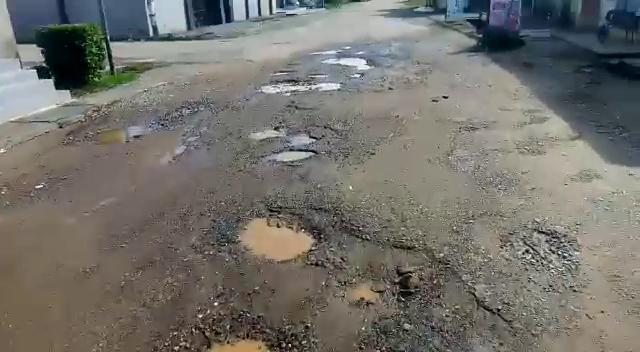pothole: (234, 207, 321, 263), (255, 78, 339, 93), (93, 123, 153, 143), (251, 128, 317, 146), (260, 147, 317, 164), (324, 55, 380, 67)
